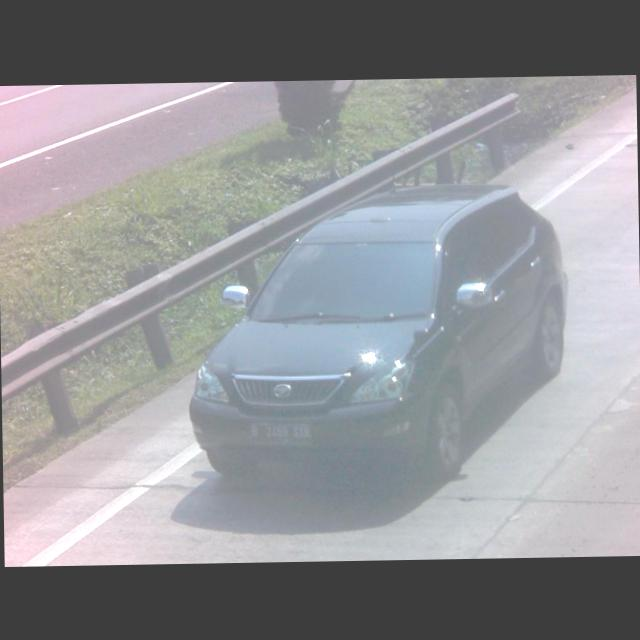plate: (245, 420, 312, 447)
